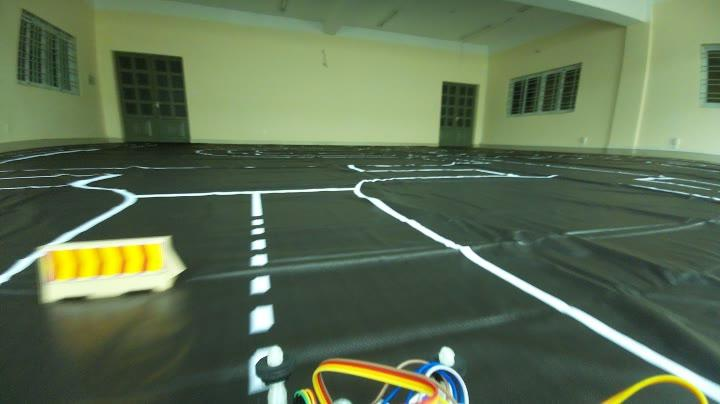roadblock: (30, 237, 195, 296)
